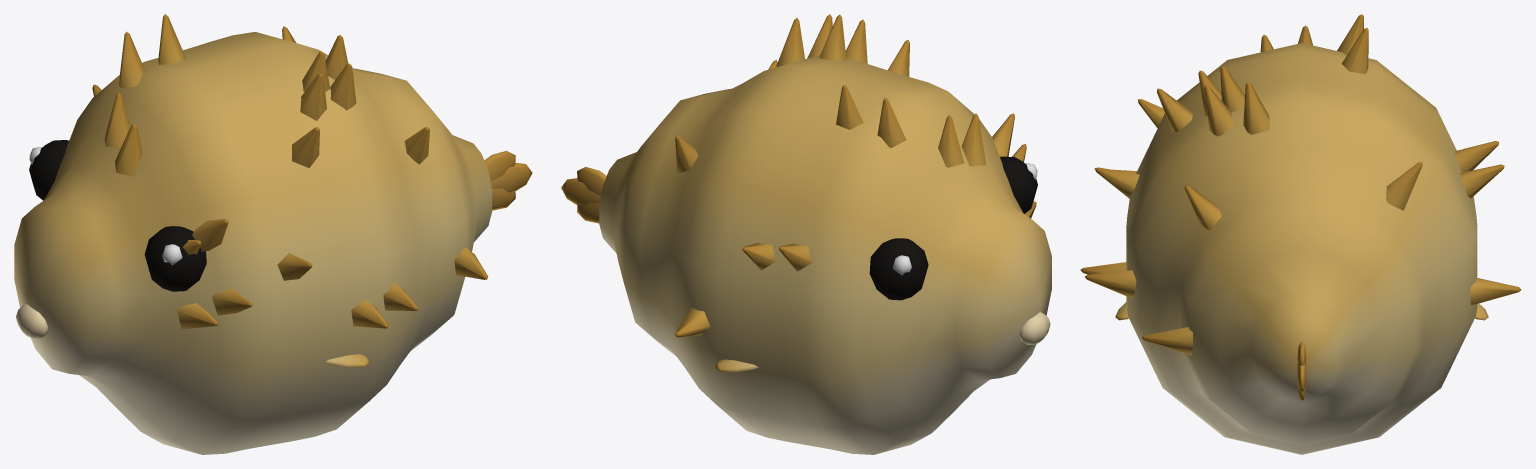
Rendered from Pufferfish.glb.
3 renders of one model, left to right at view 1: azimuth 30°, elevation 25°; view 2: azimuth 150°, elevation 25°; view 3: azimuth 270°, elevation 25°, orthographic. The views are drawn at different scales.
Parts seen in each view (by area): view 1: Pufferfish; view 2: Pufferfish; view 3: Pufferfish.
Boxes of the visible parts, x1,y1,x2,y2 form: Pufferfish: [14, 14, 532, 454]; Pufferfish: [561, 14, 1051, 454]; Pufferfish: [1080, 14, 1521, 454].
Bounding box in the file's own units: 1.13 × 0.8562 × 0.8912.
